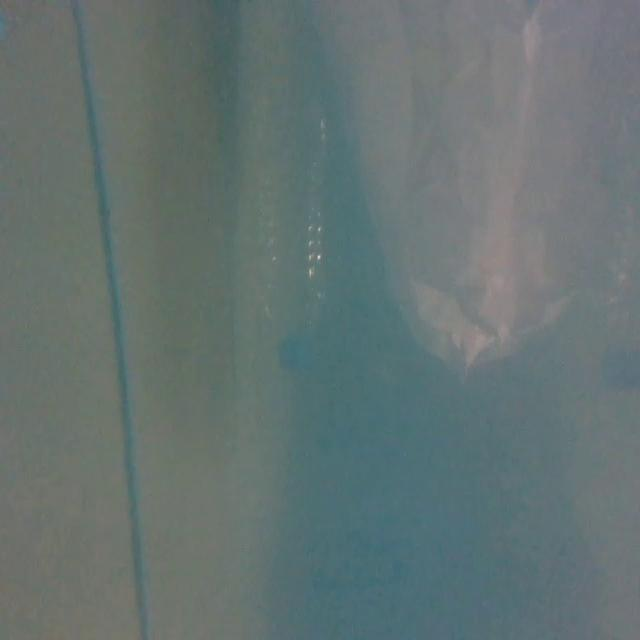plastic bags: (357, 0, 640, 385)
plastic bottle: (241, 59, 348, 385)
